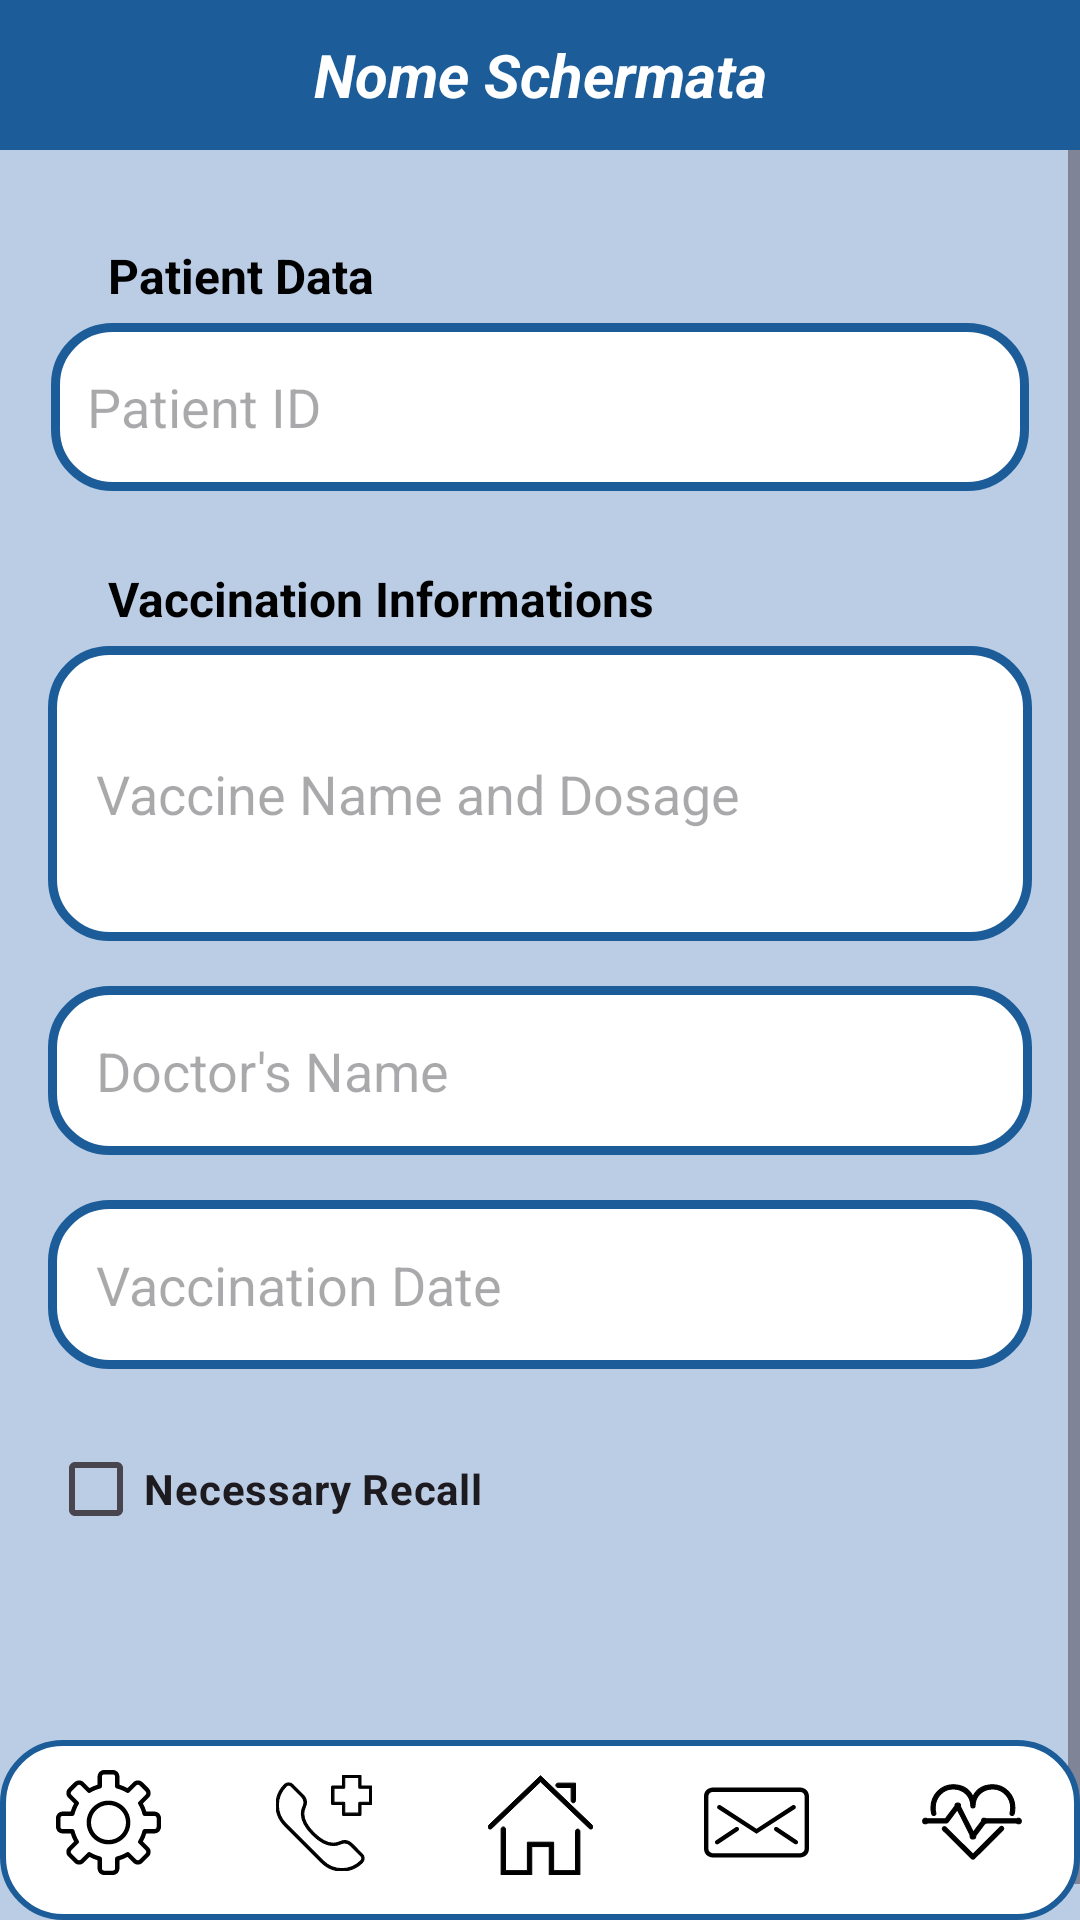

Icons on this 1080px×1920px Android screen, each with the point to tap as (x=x, y=y):
home: (x=540, y=1825)
message: (x=756, y=1822)
setting: (x=108, y=1822)
sos: (x=324, y=1823)
